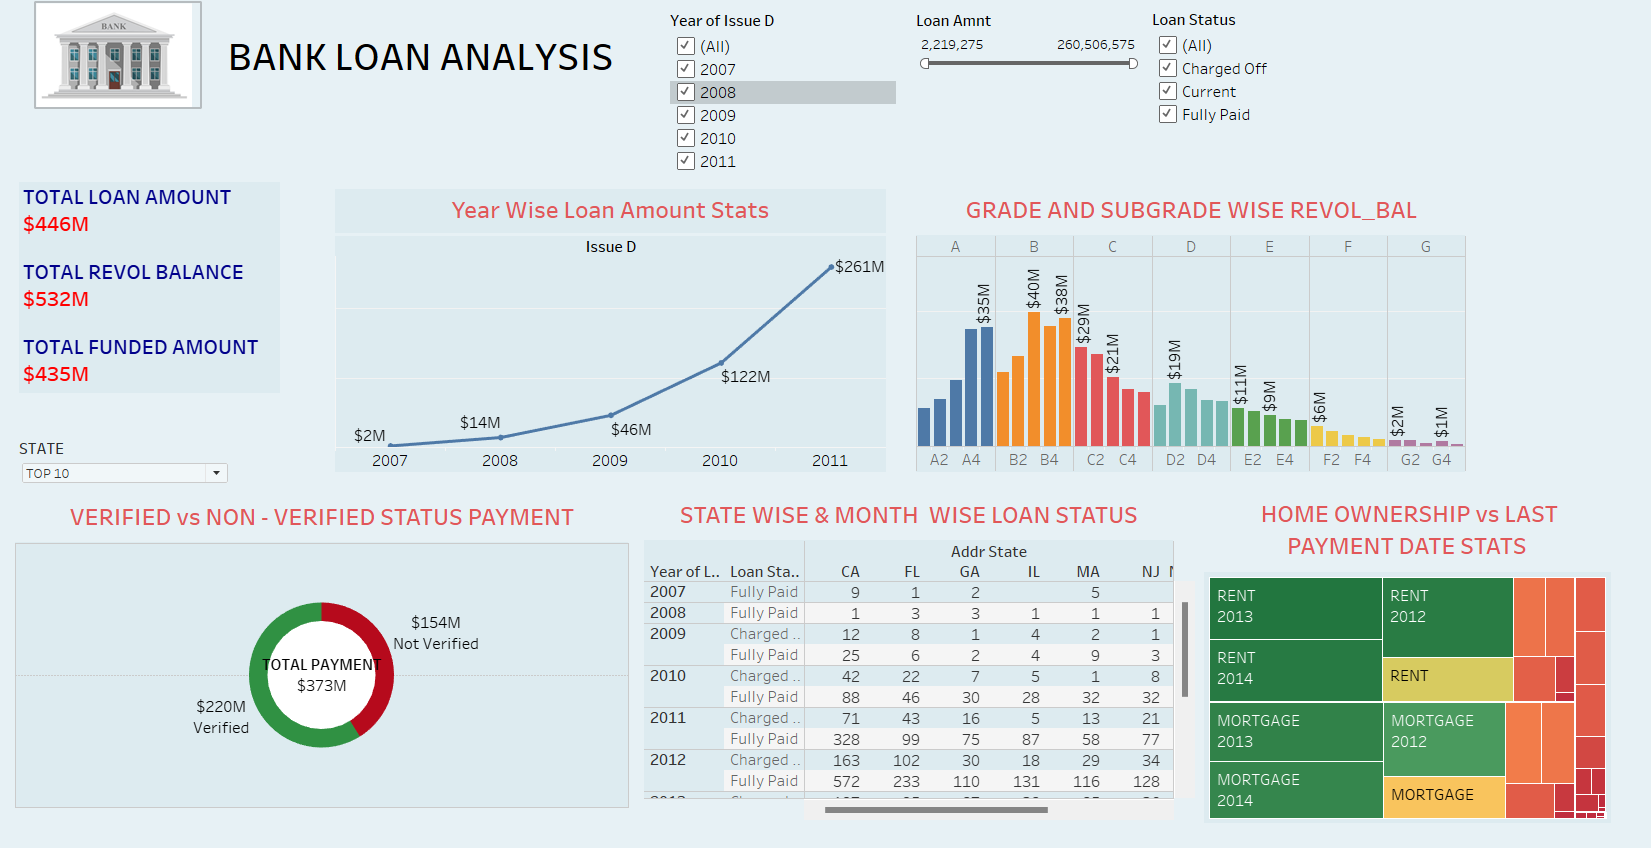

What the dashboard file says about the page in this screenshot:
{"tool":"tableau","page":{"name":"Dashboard 1","canvas":[1000,1000],"units":"permille","ordinal":0},"visuals":[{"type":"image","param":"Image/bank jpeg.jpg","box":[25.6,5,99,122.3]},{"type":"text","box":[126.3,6.6,262.8,117.4]},{"type":"filter","title":"KPI 1","param":"[federated.0h3ogim1k55zh81b7tx0f14es72z].[none:loan_status:nk]","box":[698.8,11.6,136.5,205]},{"type":"filter","title":"KPI 1","param":"[federated.0h3ogim1k55zh81b7tx0f14es72z].[yr:issue_d:ok]","box":[407.9,13.2,136.5,200]},{"type":"filter","title":"KPI 1","param":"[federated.0h3ogim1k55zh81b7tx0f14es72z].[sum:loan_amnt:qk]","box":[556.3,13.2,136.5,100.8]},{"type":"worksheet","title":"TOTAL","mark":"Automatic","box":[15.4,214.9,221,307.4]},{"type":"worksheet","title":"KPI 1","mark":"Line","rows":["loan_amnt"],"cols":["issue_d"],"box":[205.6,223.1,332.8,332.2]},{"type":"worksheet","title":"KPI  2","mark":"Automatic","rows":["revol_bal"],"cols":["grade","sub_grade"],"box":[556.3,223.1,332.8,332.2]},{"type":"parameter","param":"[Parameters].[Parameter 1]","box":[15.4,515.7,128,57.9]},{"type":"worksheet","title":"KPI 4","mark":"Automatic","rows":["last_credit_pull_d","loan_status"],"cols":["addr_state"],"box":[392.5,581.8,332.8,383.5]},{"type":"worksheet","title":"KPI 3","mark":"Pie","rows":["Calculation_788130002717913088","Calculation_788130002717913088"],"box":[12.8,583.5,370.3,366.9]}]}

Visuals, with their boxes on the dashboard's canvas, which has no fixed pixel size, in thousandths of its width and height (x1, y1, x2, y2). These are canvas units, not pixel positions in the 1651x848 screenshot, which may show the page scaled, cropped or inside an application window:
image: crop(26, 5, 125, 127)
text: crop(126, 7, 389, 124)
"KPI 1" filter: crop(699, 12, 835, 217)
"KPI 1" filter: crop(408, 13, 544, 213)
"KPI 1" filter: crop(556, 13, 693, 114)
"TOTAL" worksheet: crop(15, 215, 236, 522)
"KPI 1" worksheet (Line marks): crop(206, 223, 538, 555)
"KPI  2" worksheet: crop(556, 223, 889, 555)
parameter: crop(15, 516, 143, 574)
"KPI 4" worksheet: crop(392, 582, 725, 965)
"KPI 3" worksheet (Pie marks): crop(13, 584, 383, 950)
